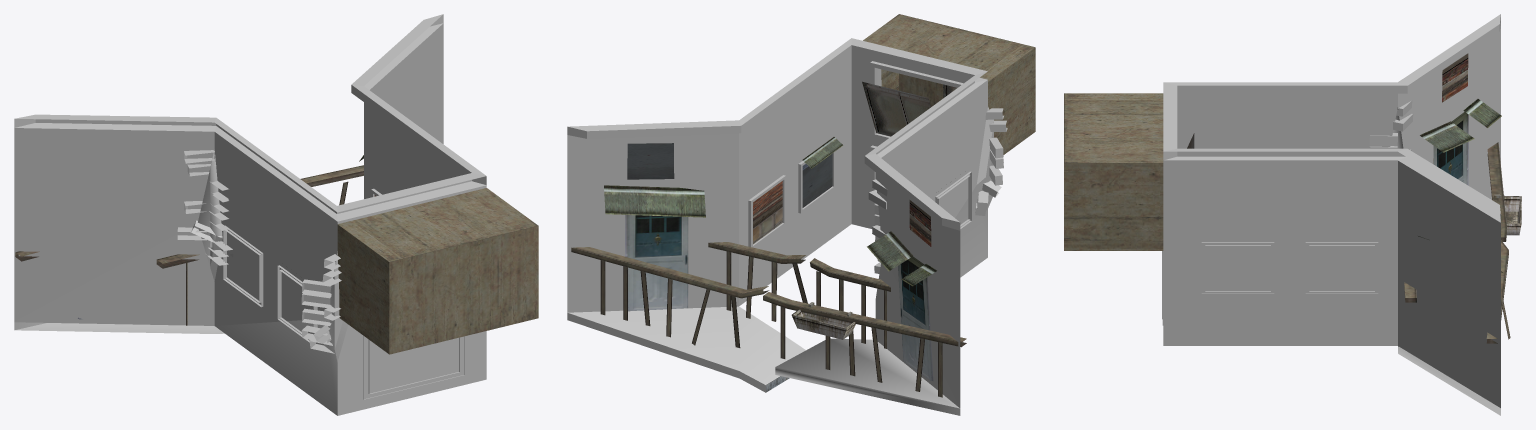
Rendered from Store_front_17_C.fbx.
3 renders of one model, left to right at view 1: azimuth 30°, elevation 25°; view 2: azimuth 150°, elevation 25°; view 3: azimuth 270°, elevation 25°, orthographic. The views are drawn at different scales.
Parts seen in each view (by area): view 1: Store_front_17_C; view 2: Store_front_17_C; view 3: Store_front_17_C.
Boxes of the visible parts, x1,y1,x2,y2 form: Store_front_17_C: (14,14,538,415); Store_front_17_C: (567,14,1035,415); Store_front_17_C: (1064,14,1521,415).
Bounding box in the file's own units: 708 × 387 × 685.
